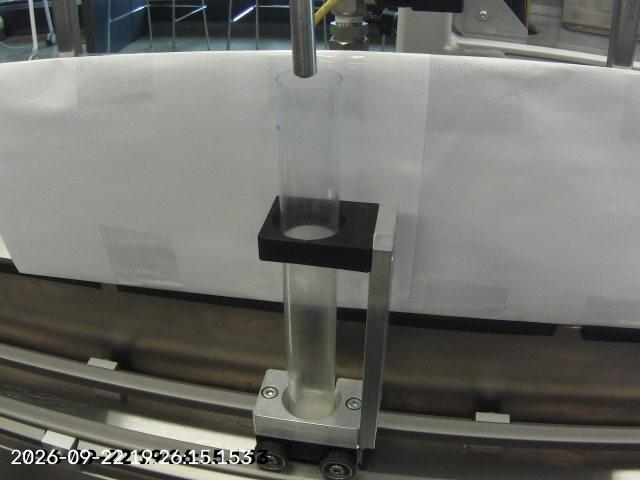vial: (255, 62, 380, 425)
